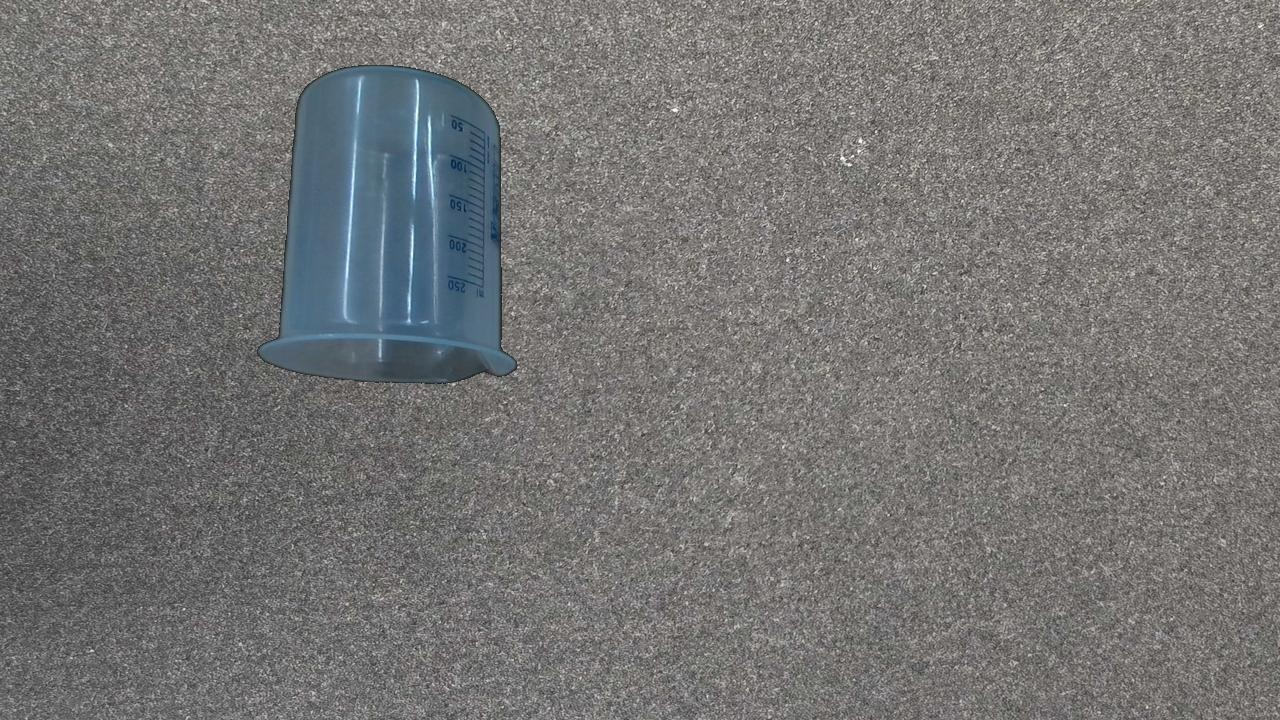cup: (255, 64, 517, 385)
